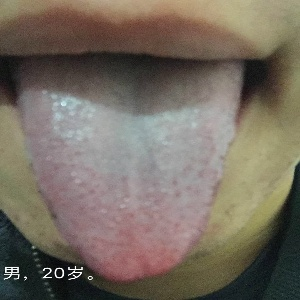st: (14, 88, 244, 279)
